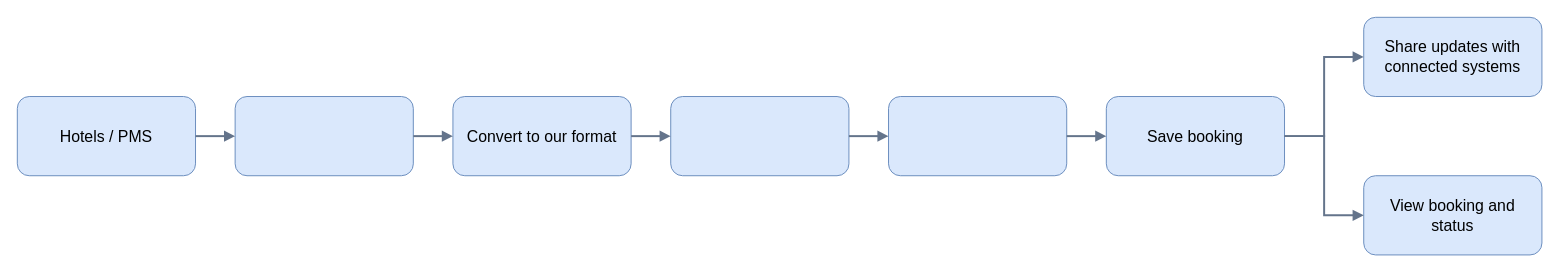
Some shapes in this 1559 by 272 pixel diagram are drawn without their labels. The centre of each missing label's shape, as x and y in pixels:
"Apply booking rules" goes at (x=977, y=136).
"Queue for processing" goes at (x=759, y=136).
"Receive booking data" goes at (x=323, y=136).
